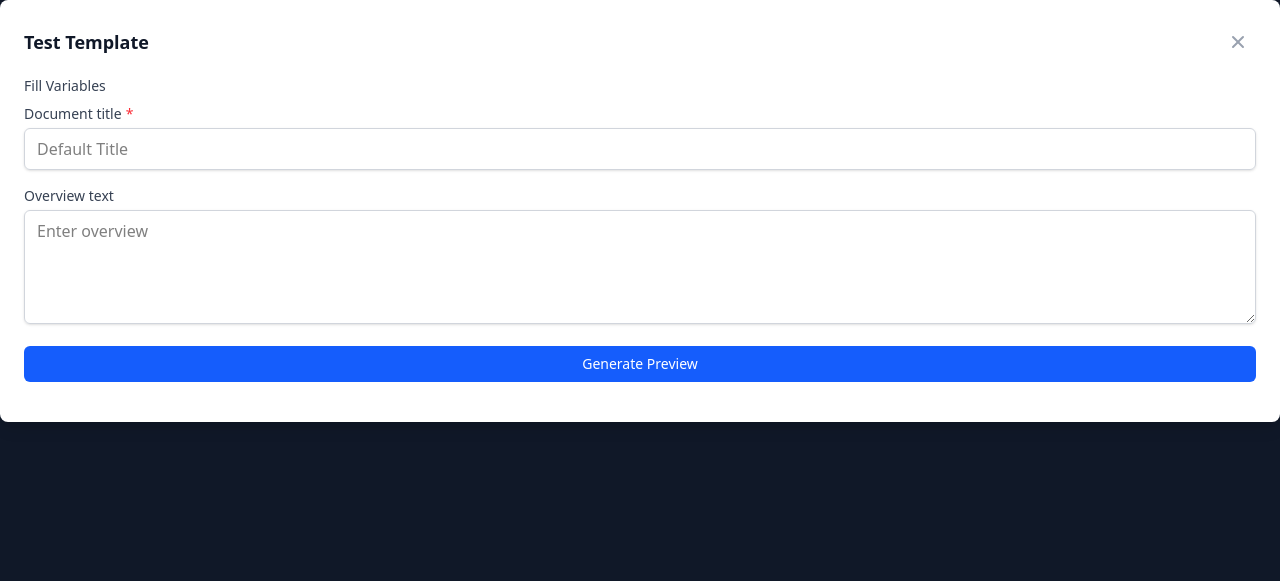
Test: TemplatePreview › preview generation › should substitute variables in preview
Type "Test Title" into the field labelled "Document title*". click: (640, 149)
box: [24,128,1256,170]
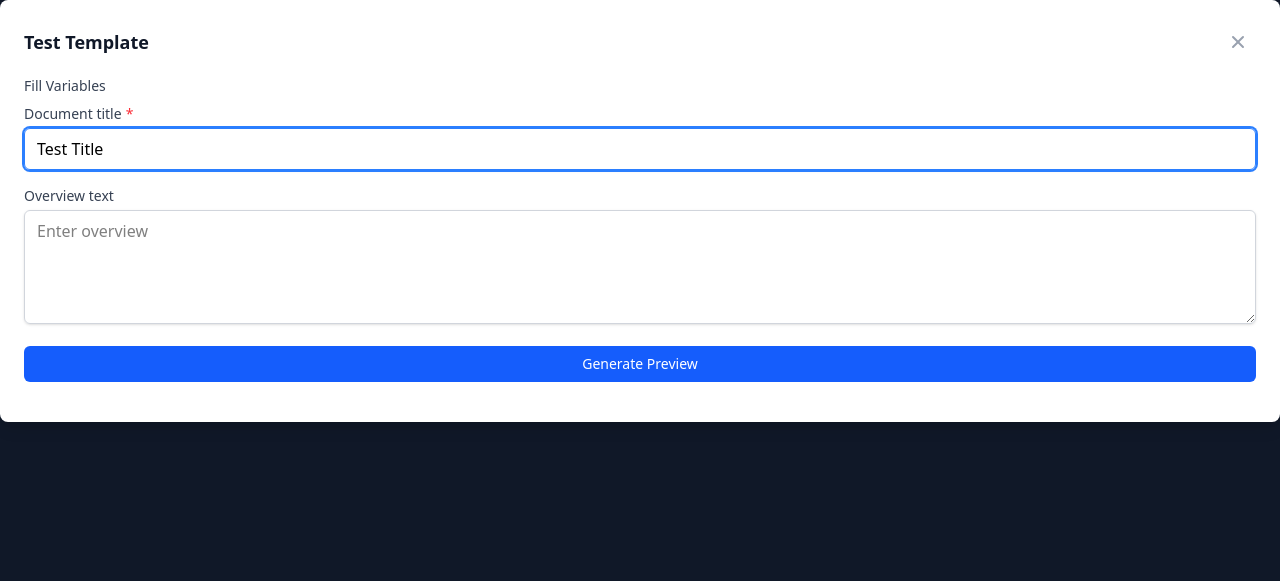
Click the button "Generate Preview". click: (640, 364)
box: [24,346,1256,382]
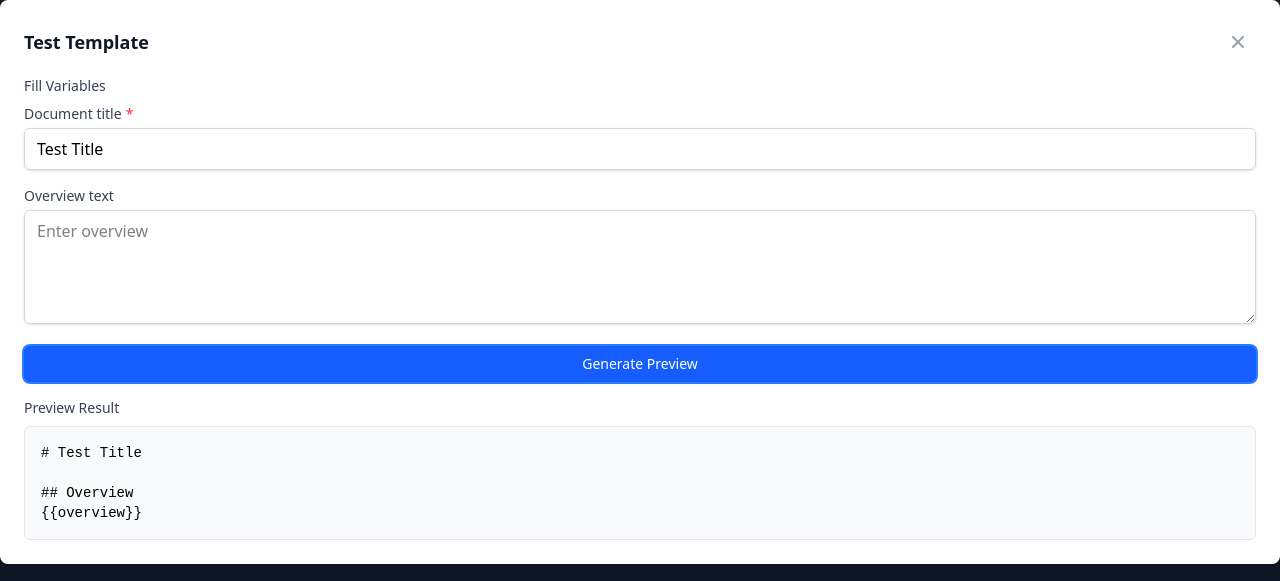
Check: the text with test id "preview-result" shows "Test Title", box [41,445,142,521]
